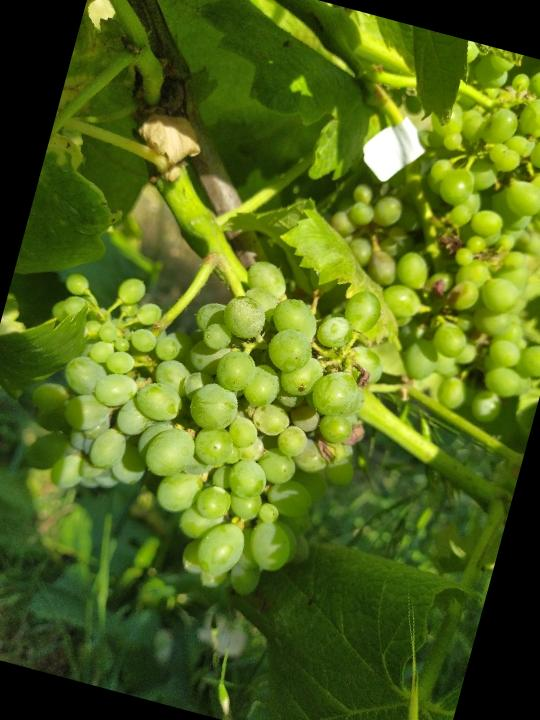grape: (0, 204, 414, 627)
